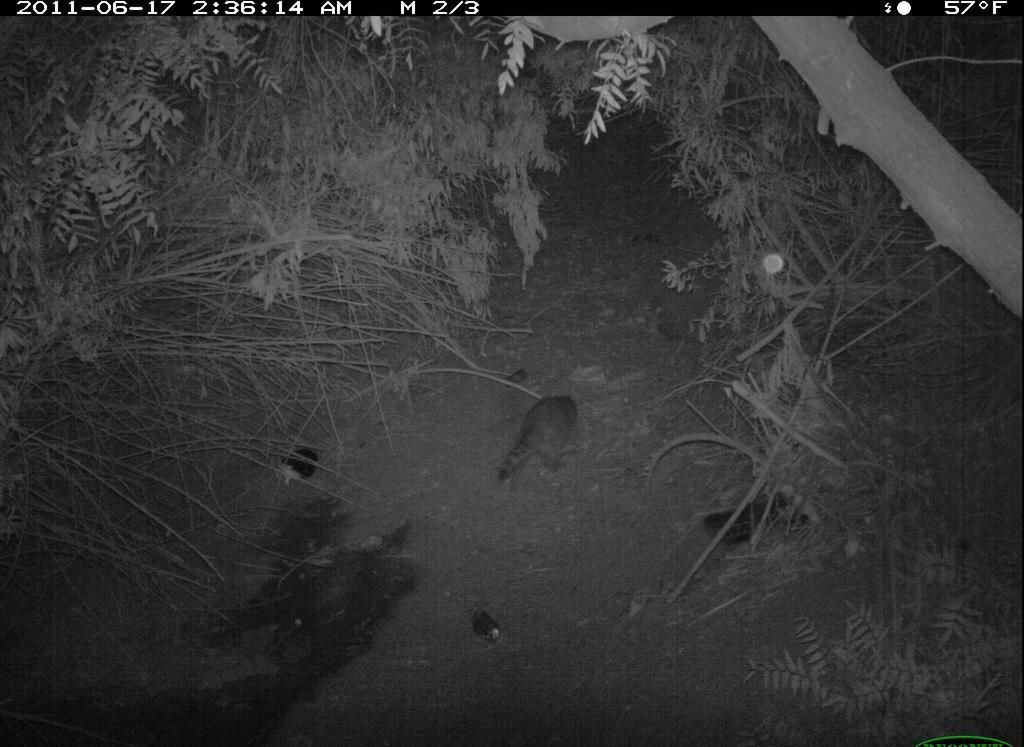raccoon: (482, 370, 593, 509)
